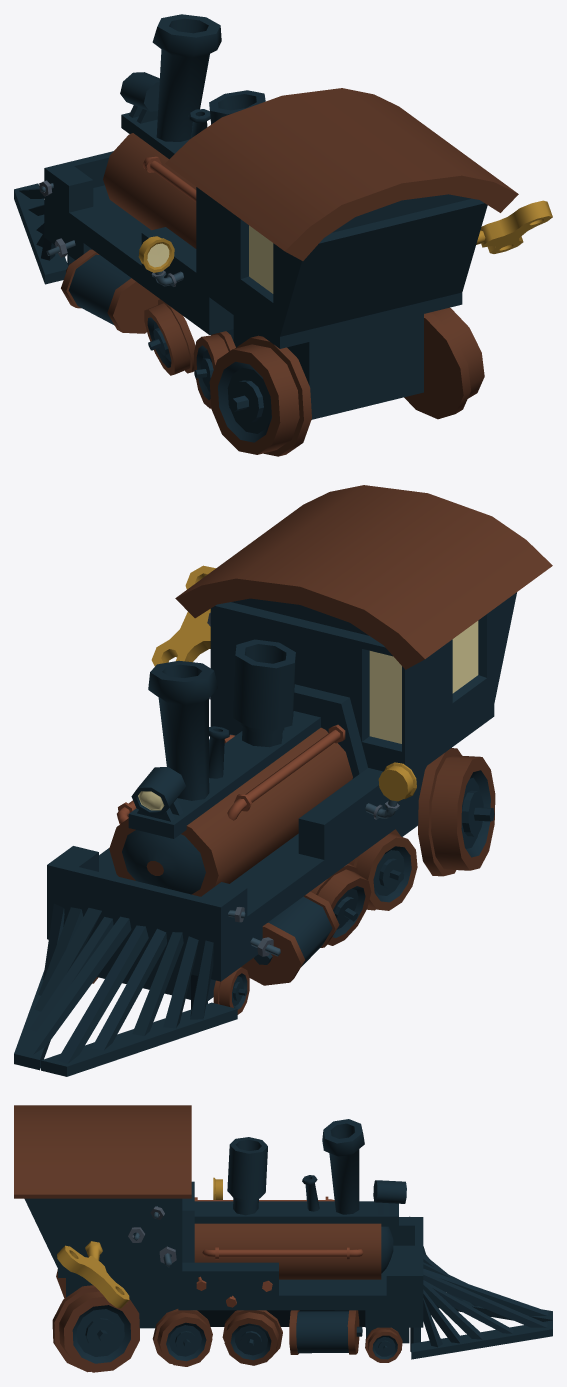
The model's file is trem_steampunk.fbx.
3 renders of one model, top to bottom at view 1: azimuth 30°, elevation 25°; view 2: azimuth 150°, elevation 25°; view 3: azimuth 270°, elevation 25°, orthographic. The views are drawn at different scales.
Visible parts, largest first — view 1: trem_steampunk; view 2: trem_steampunk; view 3: trem_steampunk.
Boxes of the visible parts, x1,y1,x2,y2 form: trem_steampunk: [14, 14, 552, 456]; trem_steampunk: [14, 485, 552, 1076]; trem_steampunk: [14, 1105, 552, 1372].
Size of the model in its own units: 496 by 449 by 1008.
